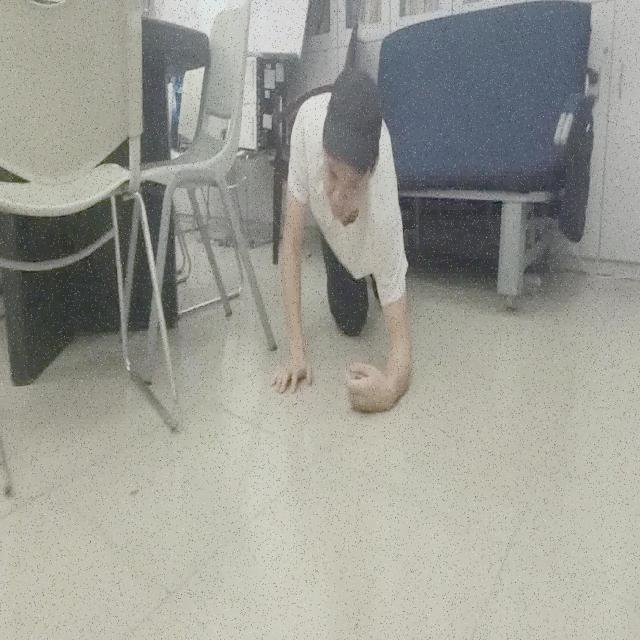fall: (271, 71, 411, 411)
